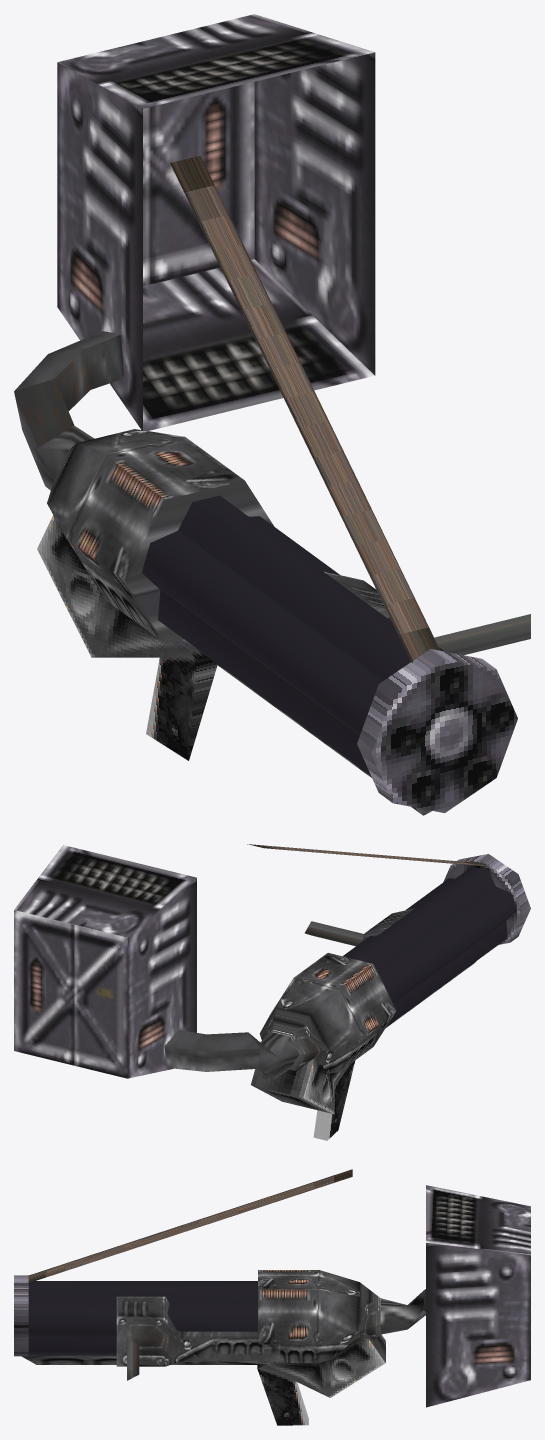
The model's file is p_mini2.glb.
The picture shows the model from 3 angles, top to bottom: view 1: azimuth 30°, elevation 25°; view 2: azimuth 150°, elevation 25°; view 3: azimuth 270°, elevation 25°; orthographic projection. The views are drawn at different scales.
Visible parts, largest first — view 1: p_mini2; view 2: p_mini2; view 3: p_mini2.
Boxes of the visible parts, left/top/right/bottom form: p_mini2: left=14, top=14, right=530, bottom=815; p_mini2: left=14, top=844, right=530, bottom=1140; p_mini2: left=14, top=1169, right=530, bottom=1425.
Size of the model in its own units: 22.23 by 27.21 by 47.16.
5 materials, 5 textured.
